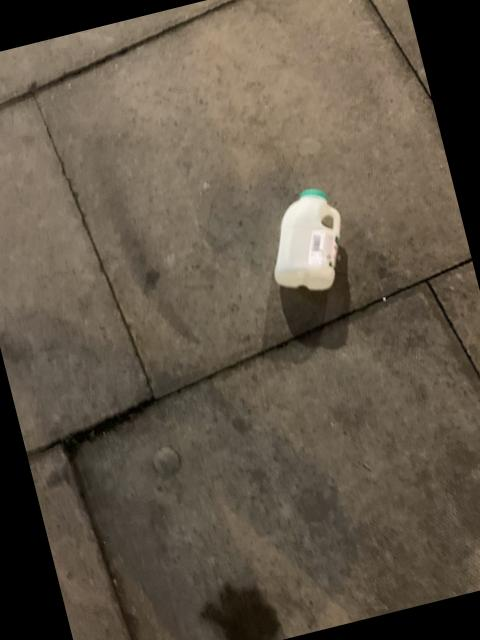plastic: (275, 186, 340, 287)
